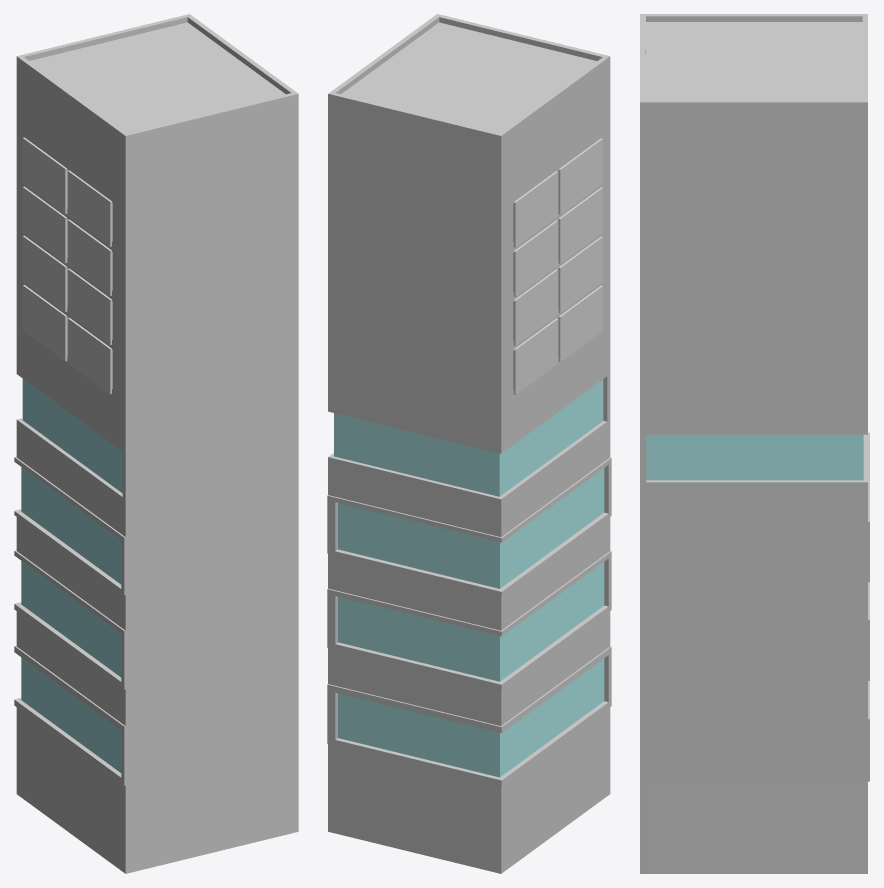
The model's file is EdificioConTVs.FBX.
The picture shows the model from 3 angles, left to right: view 1: azimuth 30°, elevation 25°; view 2: azimuth 150°, elevation 25°; view 3: azimuth 270°, elevation 25°; orthographic projection. The views are drawn at different scales.
Visible parts, largest first — view 1: Edificio_072, Ventana1392, VentanaCompleta, TV7, TV5, TV3, TV1, TV2, TV4, TV8, TV6; view 2: Edificio_072, Ventana1392, VentanaCompleta, TV3, TV7, TV5, TV1, TV8, TV6, TV4, TV2; view 3: Edificio_072, VentanaCompleta.
Boxes of the visible parts, x1,y1,x2,y2 form: Edificio_072: (14, 14, 298, 873); Ventana1392: (21, 467, 121, 772); VentanaCompleta: (22, 379, 122, 492); TV7: (22, 285, 67, 361); TV5: (22, 235, 67, 312); TV3: (22, 186, 67, 263); TV1: (22, 137, 67, 213); TV2: (67, 170, 112, 246); TV4: (67, 219, 112, 295); TV8: (67, 317, 112, 394); TV6: (67, 268, 112, 344); Edificio_072: (327, 14, 611, 873); Ventana1392: (338, 468, 604, 777); VentanaCompleta: (334, 379, 603, 496); TV3: (513, 220, 558, 296); TV7: (513, 318, 558, 394); TV5: (513, 269, 558, 345); TV1: (513, 171, 558, 247); TV8: (558, 285, 602, 362); TV6: (558, 236, 602, 312); TV4: (558, 187, 602, 263); TV2: (558, 138, 602, 214); Edificio_072: (640, 14, 869, 873); VentanaCompleta: (646, 434, 863, 480).
Size of the model in its own units: 23.57 by 93.81 by 25.33.
